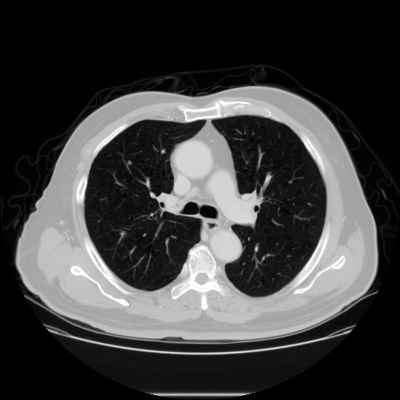nodule: (127, 160, 131, 164)
